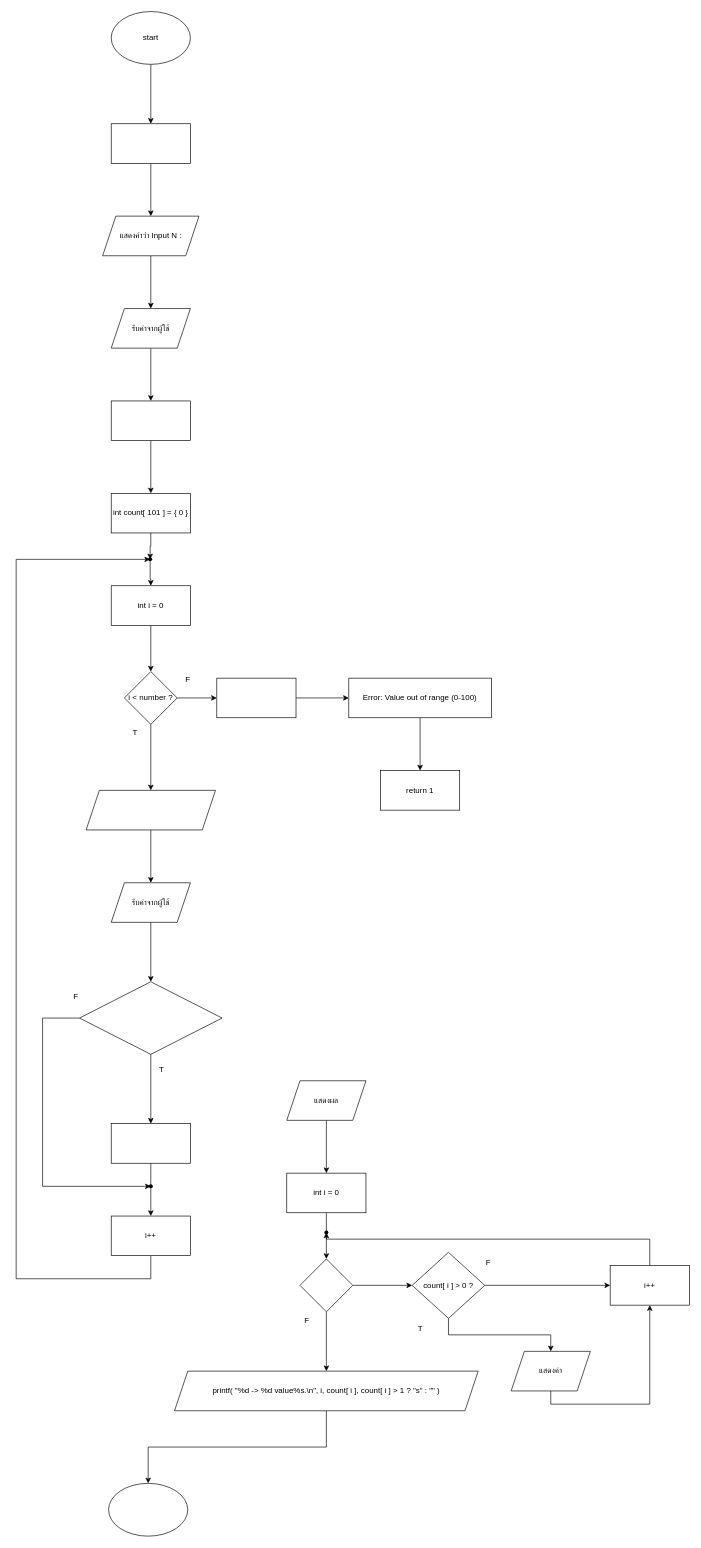
The diagram is 701 pixels wide and 1548 high, and some of its shapes have lost their labels. The shapes that lost their labels are listed below. From the top down, each one's centre as x and y in pixels, then its label:
At (x=150, y=143): "int number".
At (x=150, y=420): "int arr[ number ]".
At (x=256, y=697): "count[ arr [ i ] ] ++".
At (x=150, y=810): "แสดงคำว่า Element :".
At (x=150, y=1017): "arr[ i ] >= 0 && arr[ i ] <= 100".
At (x=150, y=1143): "count[ arr[ i ] ]".
At (x=326, y=1285): "i <= 100 ?".
At (x=148, y=1509): "end".
